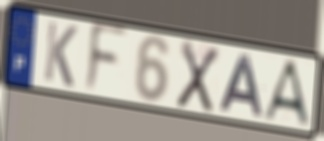6: (132, 33, 172, 107)
A: (261, 57, 313, 130), (218, 54, 266, 120)
F: (82, 20, 130, 98)
K: (42, 18, 80, 90)
X: (174, 38, 221, 116)
